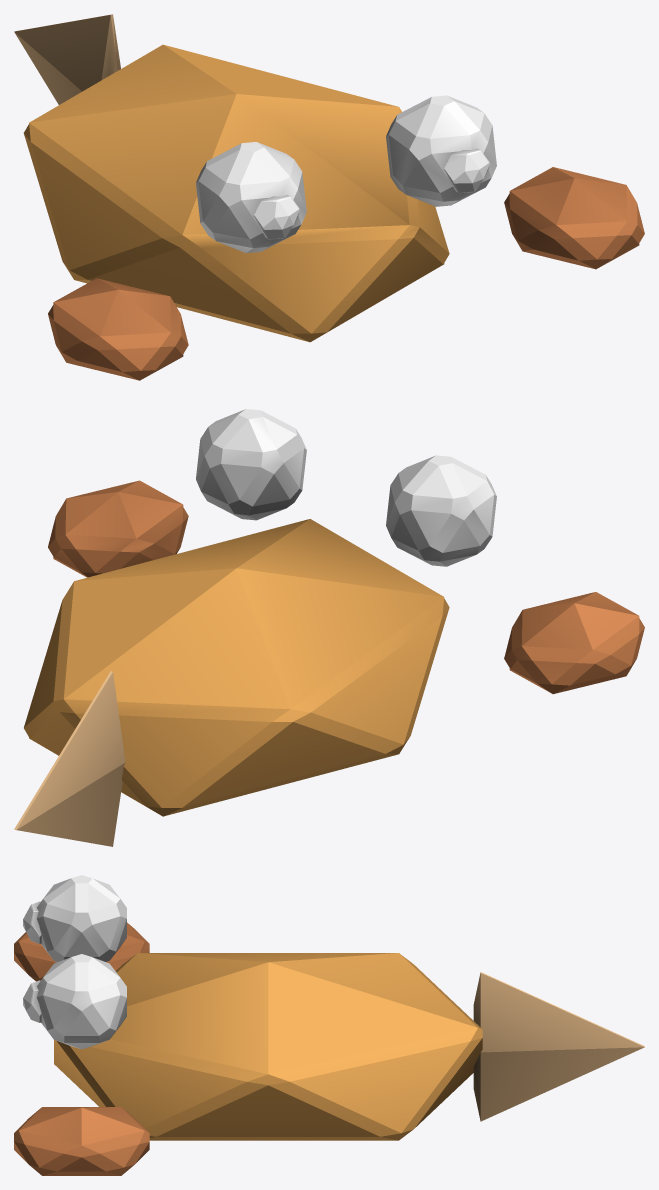
Rendered from FishMimic.fbx.
3 renders of one model, top to bottom at view 1: azimuth 30°, elevation 25°; view 2: azimuth 150°, elevation 25°; view 3: azimuth 270°, elevation 25°, orthographic. The views are drawn at different scales.
Parts seen in each view (by area): view 1: Body; view 2: Body; view 3: Body.
Boxes of the visible parts, bbox=[...] form: Body: bbox=[14, 14, 644, 380]; Body: bbox=[14, 409, 644, 846]; Body: bbox=[14, 875, 644, 1175].
Size of the model in its own units: 0.5992 by 0.251 by 0.6762.
